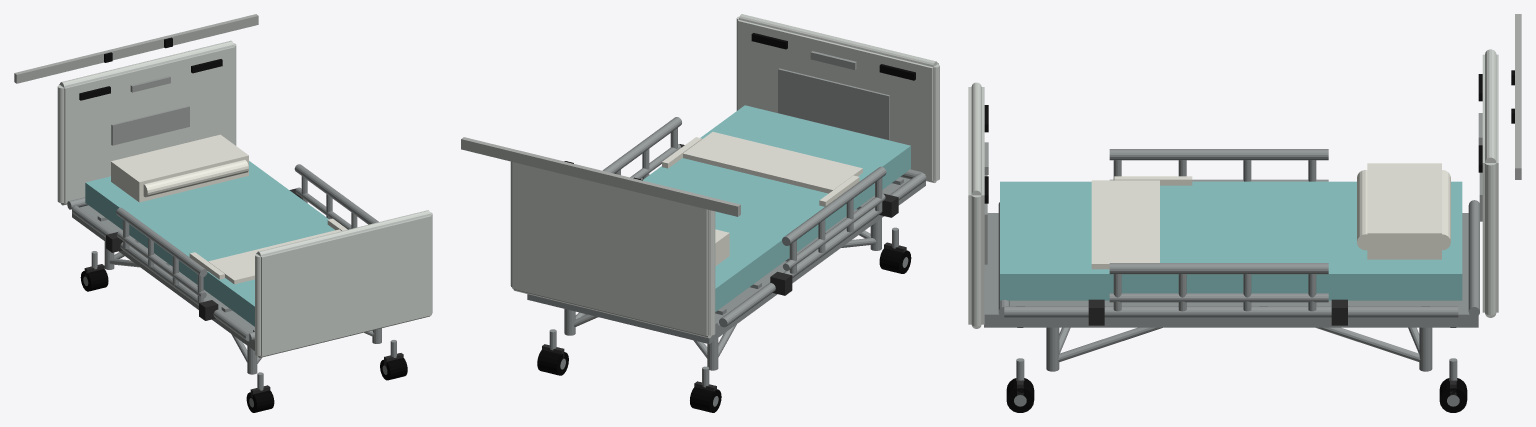
File: hospital_patient_bed.obj
3 views of the same model, side by side, from view 1: azimuth 30°, elevation 25°; view 2: azimuth 150°, elevation 25°; view 3: azimuth 270°, elevation 25° (orthographic). The views are drawn at different scales.
Parts seen in each view (by area): view 1: footboard_white_plastic_main_panel, light_blue_mattress, headboard_white_plastic_main_panel, white_pillow_soft_block, optional_wall_medical_rail, headboard_center_recess, main_metal_underframe, pillow_front_roll, left_long_side_rail, white_folded_sheet, headboard_white_plastic_top_round_edge, footboard_white_plastic_top_round_edge (+9 smaller); view 2: headboard_white_plastic_main_panel, light_blue_mattress, footboard_white_plastic_main_panel, white_folded_sheet, footboard_center_recess, optional_wall_medical_rail, main_metal_underframe, left_long_side_rail, footboard_white_plastic_top_round_edge, left_upper_guardrail, headboard_white_plastic_left_round_edge, left_lower_guardrail (+8 smaller); view 3: light_blue_mattress, main_metal_underframe, white_pillow_soft_block, white_folded_sheet, right_long_side_rail, left_upper_guardrail, right_upper_guardrail, right_lower_guardrail, footboard_white_plastic_main_panel, headboard_white_plastic_right_round_edge, headboard_white_plastic_main_panel, footboard_white_plastic_right_round_edge (+13 smaller).
Boxes of the visible parts, x1,y1,x2,y2 form: footboard_white_plastic_main_panel: (256, 215, 431, 356); light_blue_mattress: (85, 161, 334, 326); headboard_white_plastic_main_panel: (59, 46, 234, 203); white_pillow_soft_block: (111, 134, 248, 202); optional_wall_medical_rail: (14, 14, 258, 83); headboard_center_recess: (111, 106, 189, 145); main_metal_underframe: (72, 205, 254, 350); pillow_front_roll: (143, 159, 248, 197); left_long_side_rail: (72, 206, 249, 341); white_folded_sheet: (208, 229, 341, 284); headboard_white_plastic_top_round_edge: (60, 40, 234, 87); footboard_white_plastic_top_round_edge: (257, 210, 430, 256); headboard_white_plastic_main_panel: (512, 162, 707, 335); light_blue_mattress: (642, 105, 910, 311); footboard_white_plastic_main_panel: (737, 20, 938, 181); white_folded_sheet: (683, 132, 862, 193); footboard_center_recess: (778, 68, 889, 139); optional_wall_medical_rail: (461, 137, 740, 216); main_metal_underframe: (527, 174, 925, 344); left_long_side_rail: (719, 173, 926, 327); footboard_white_plastic_top_round_edge: (739, 14, 937, 66); left_upper_guardrail: (782, 166, 886, 245); headboard_white_plastic_left_round_edge: (707, 209, 715, 335); left_lower_guardrail: (783, 193, 885, 270); light_blue_mattress: (1000, 181, 1462, 300); main_metal_underframe: (984, 213, 1478, 327); white_pillow_soft_block: (1367, 163, 1441, 259); white_folded_sheet: (1091, 180, 1159, 269); right_long_side_rail: (1004, 306, 1458, 317); left_upper_guardrail: (1109, 149, 1328, 160); right_upper_guardrail: (1109, 263, 1328, 274); right_lower_guardrail: (1109, 293, 1328, 302); footboard_white_plastic_main_panel: (968, 87, 984, 324); headboard_white_plastic_right_round_edge: (1485, 163, 1496, 315); headboard_white_plastic_main_panel: (1482, 54, 1498, 312); footboard_white_plastic_right_round_edge: (971, 195, 981, 326).
Bounding box in the file's own units: 2.25 × 1.86 × 3.41.
